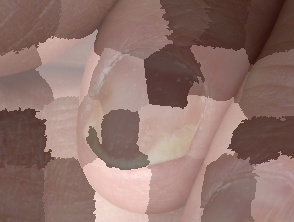Nail_psoriasis: (63, 29, 235, 203)
